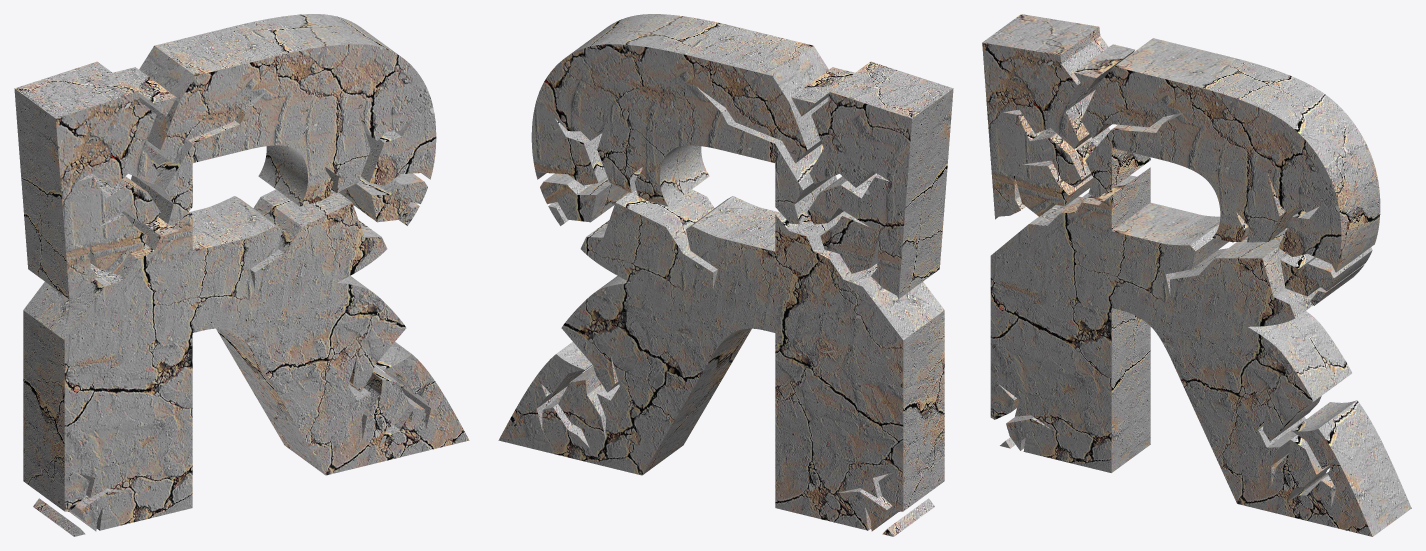
3 renders of one model, left to right at view 1: azimuth 30°, elevation 25°; view 2: azimuth 150°, elevation 25°; view 3: azimuth 330°, elevation 25°, orthographic. The views are drawn at different scales.
Visible parts, largest first — view 1: R; view 2: R; view 3: R.
Boxes of the visible parts, x1,y1,x2,y2 form: R: (14, 14, 469, 536); R: (498, 14, 953, 536); R: (982, 14, 1411, 536).
Size of the model in its own units: 86.67 by 86.36 by 15.
1 material, 1 textured.
